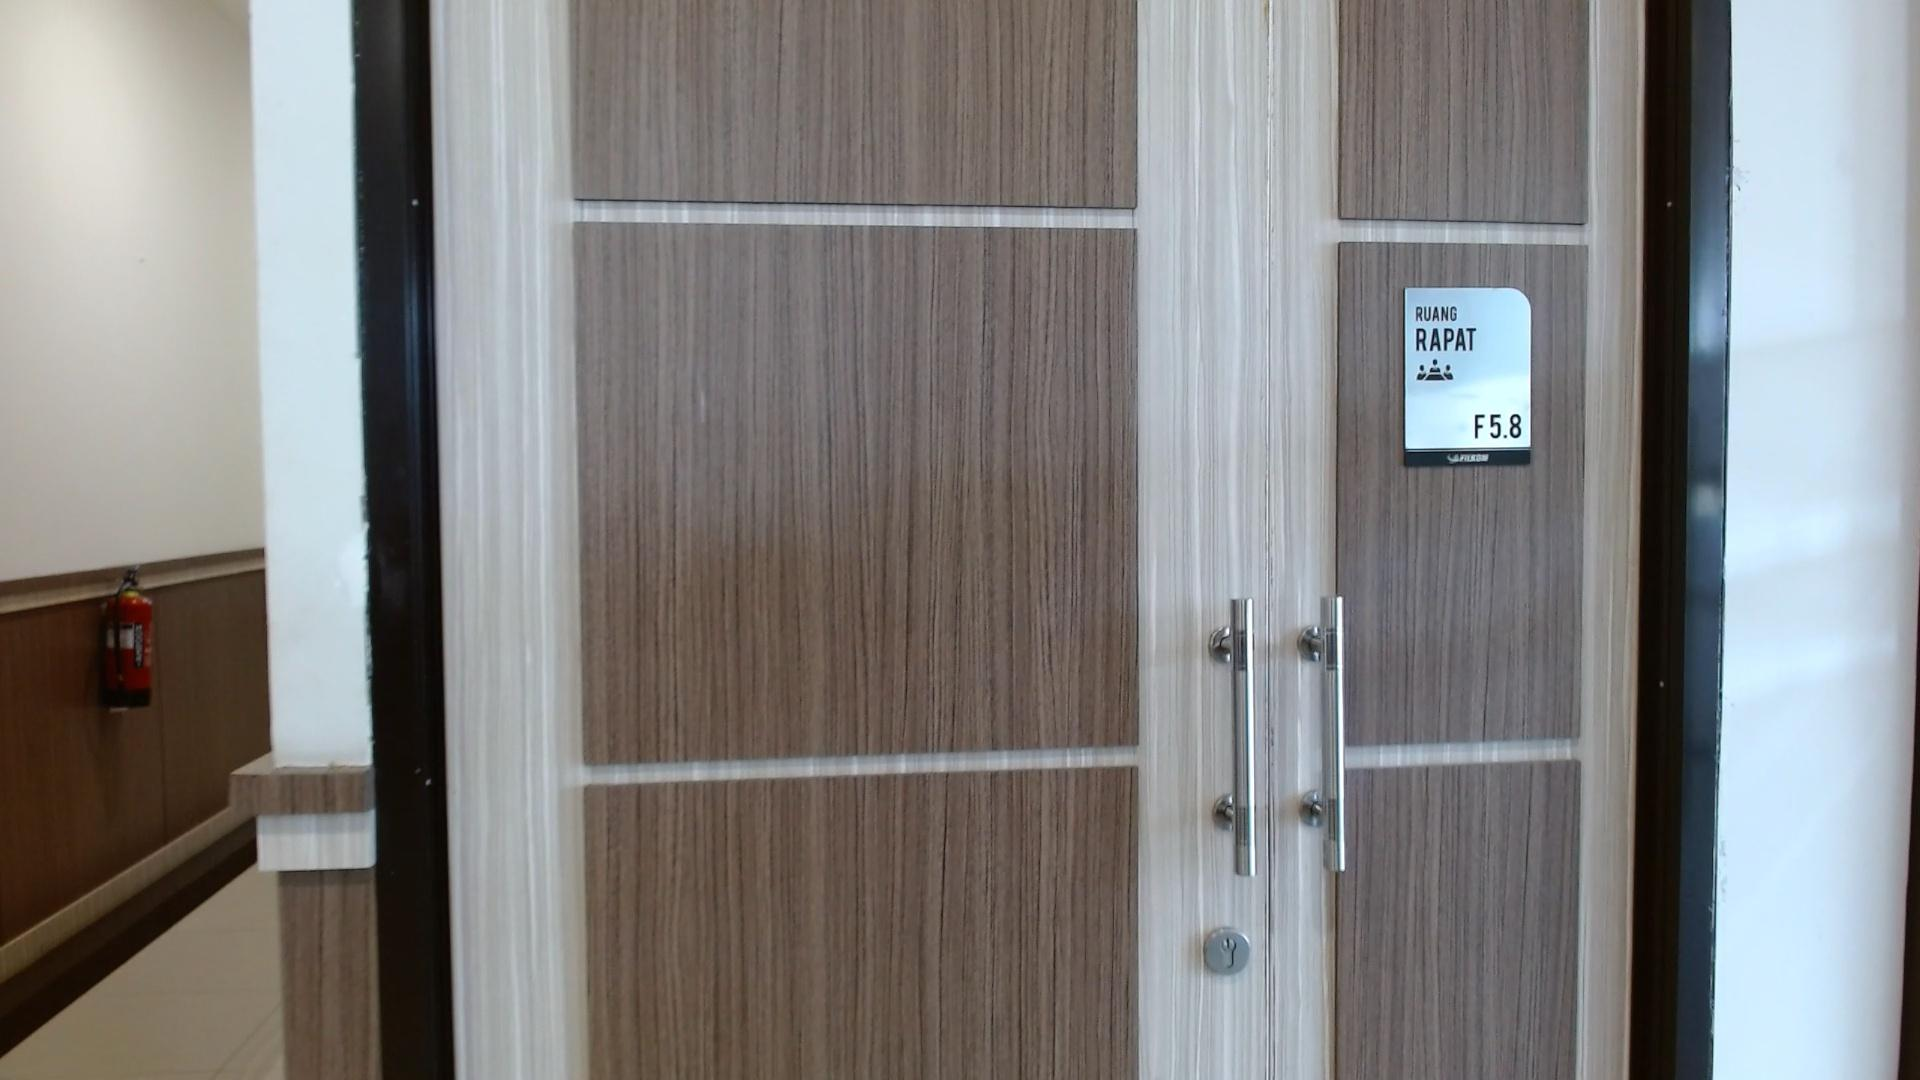plate: (1403, 287, 1534, 468)
